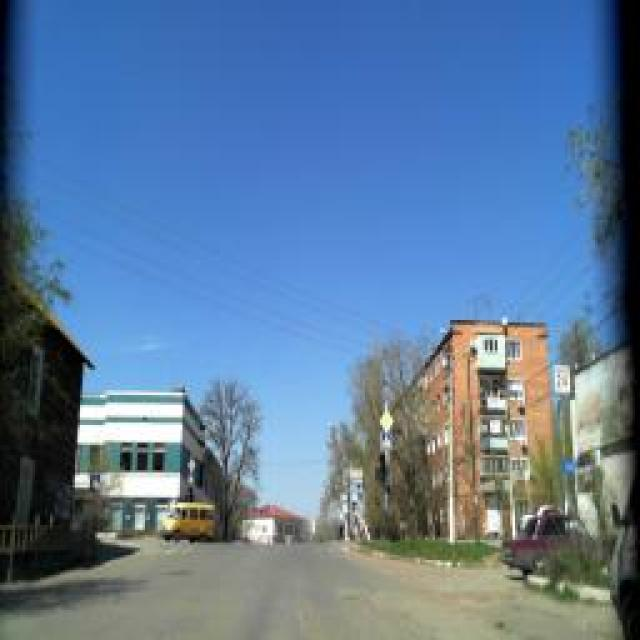sign: (378, 409, 394, 431)
